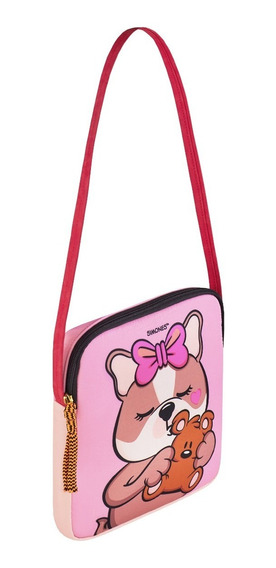cartera: (49, 24, 226, 541)
